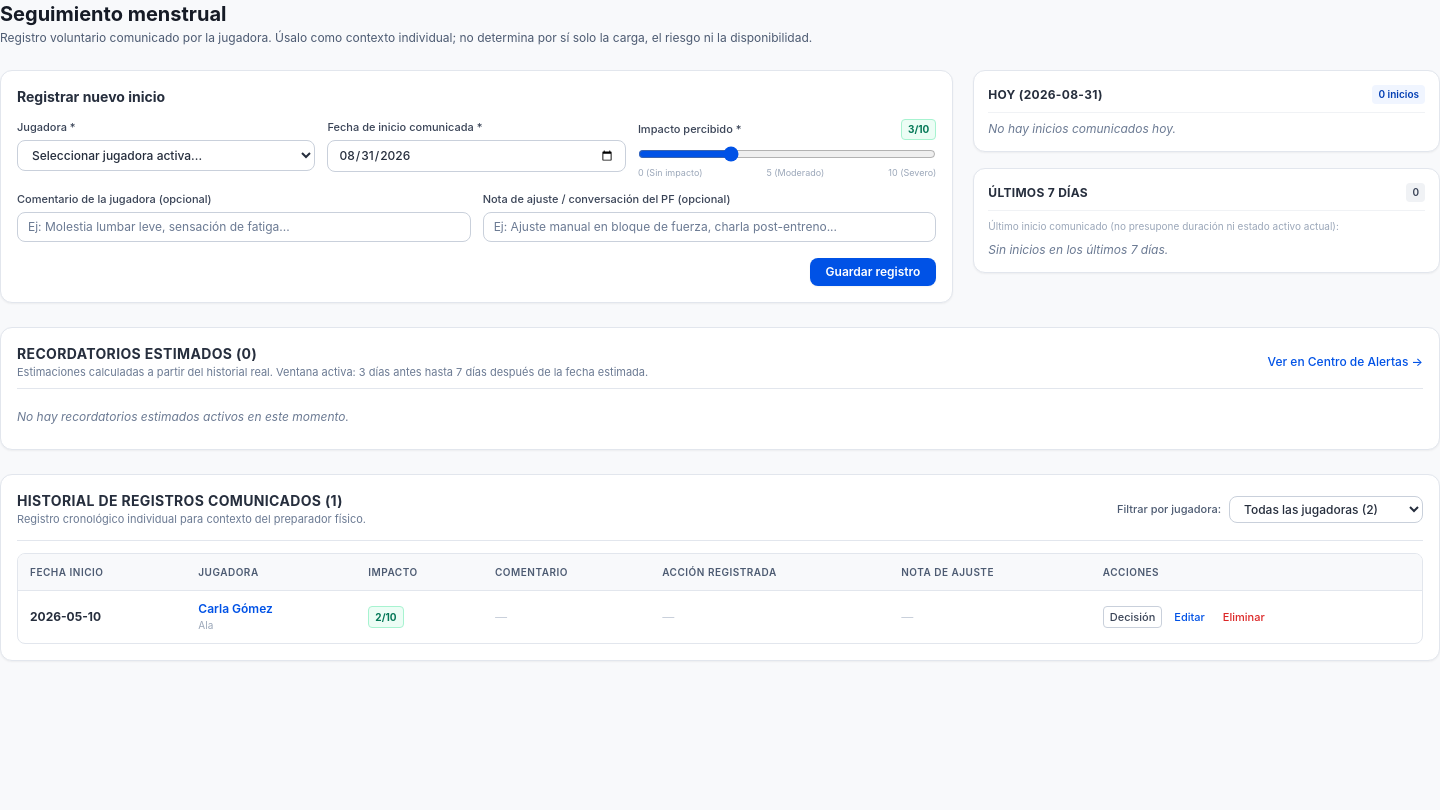
7. Eliminar registro falla y muestra error sin cerrar modal
Click the button "Eliminar" at coordinates (1244, 616), box top-left (1217, 606), bottom-right (1271, 626)
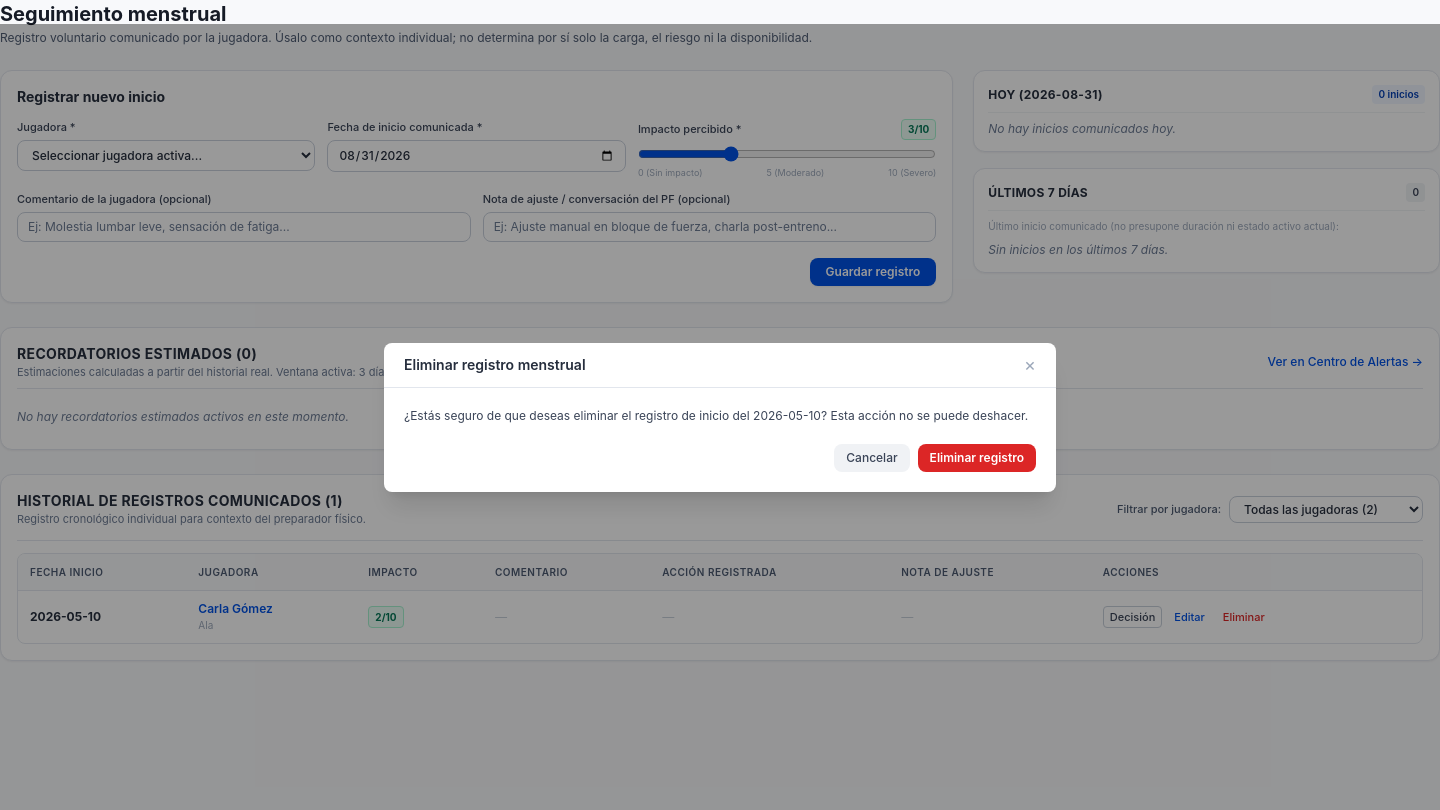
Click the button "Eliminar registro" at coordinates (977, 458), box top-left (918, 444), bottom-right (1036, 472)
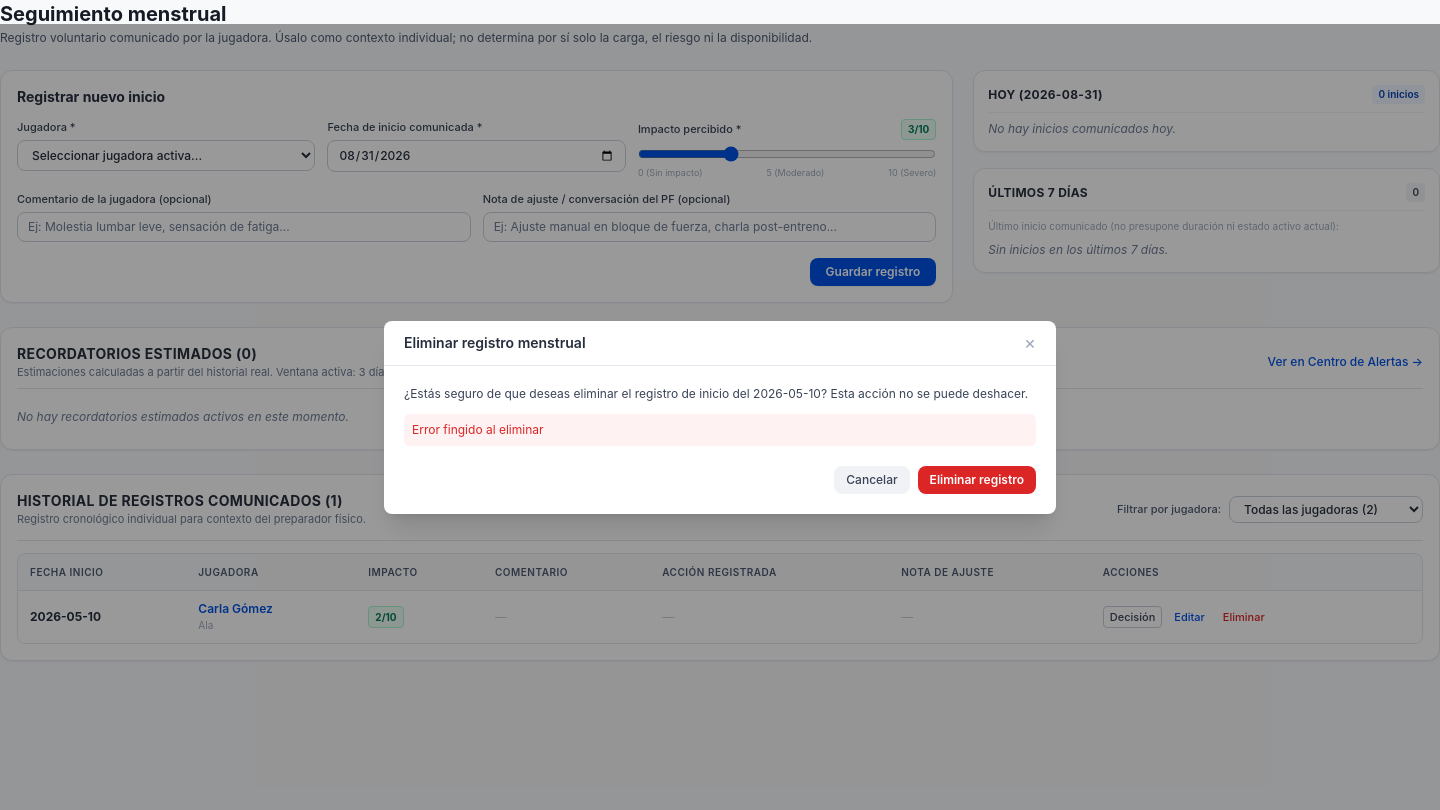
Result: the text "deseas eliminar el registro" is shown at top-left (404, 386), bottom-right (753, 400)
Result: the text "Error fingido al eliminar" is shown at top-left (404, 414), bottom-right (1036, 446)
